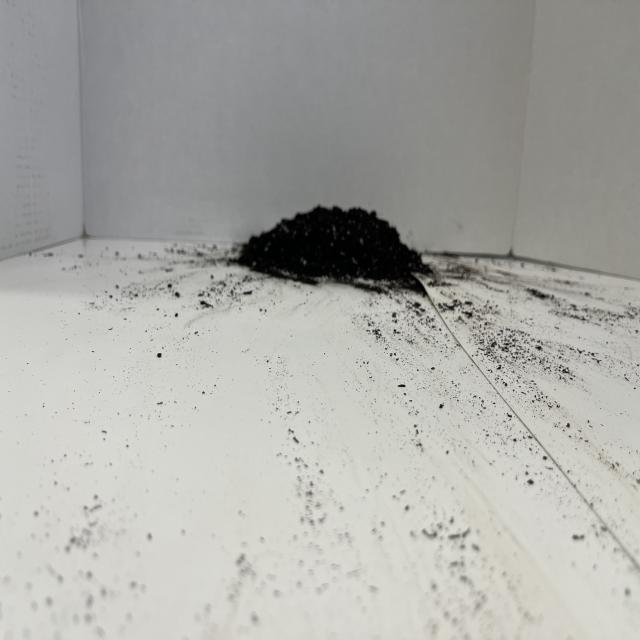soil: (236, 201, 434, 292)
